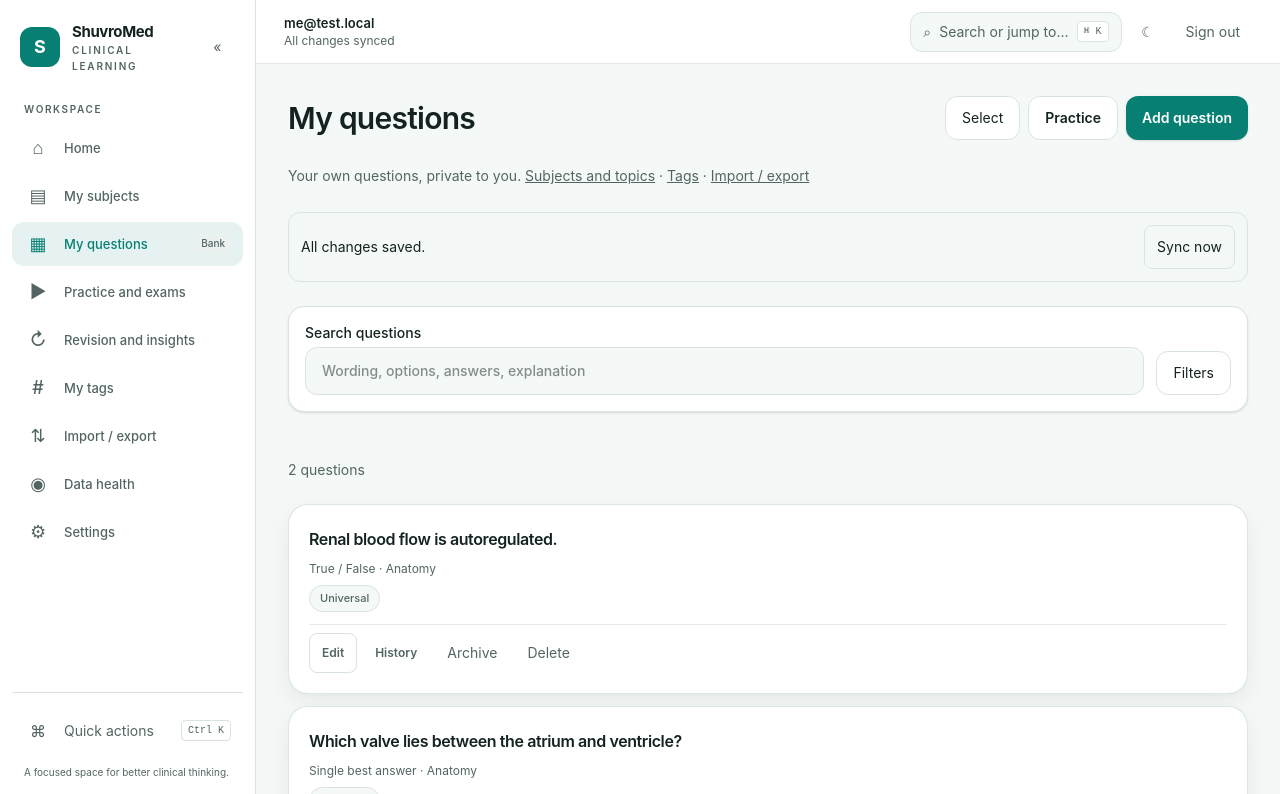
it: question bank › searches wording, options and explanation, shows the count, and clears
Expected: the text "2 questions" is shown, [288,461,365,478]
Type "myogenic" into the search field labelled "Search questions".
click(725, 371); type("myogenic")  # box [305,347,1144,395]
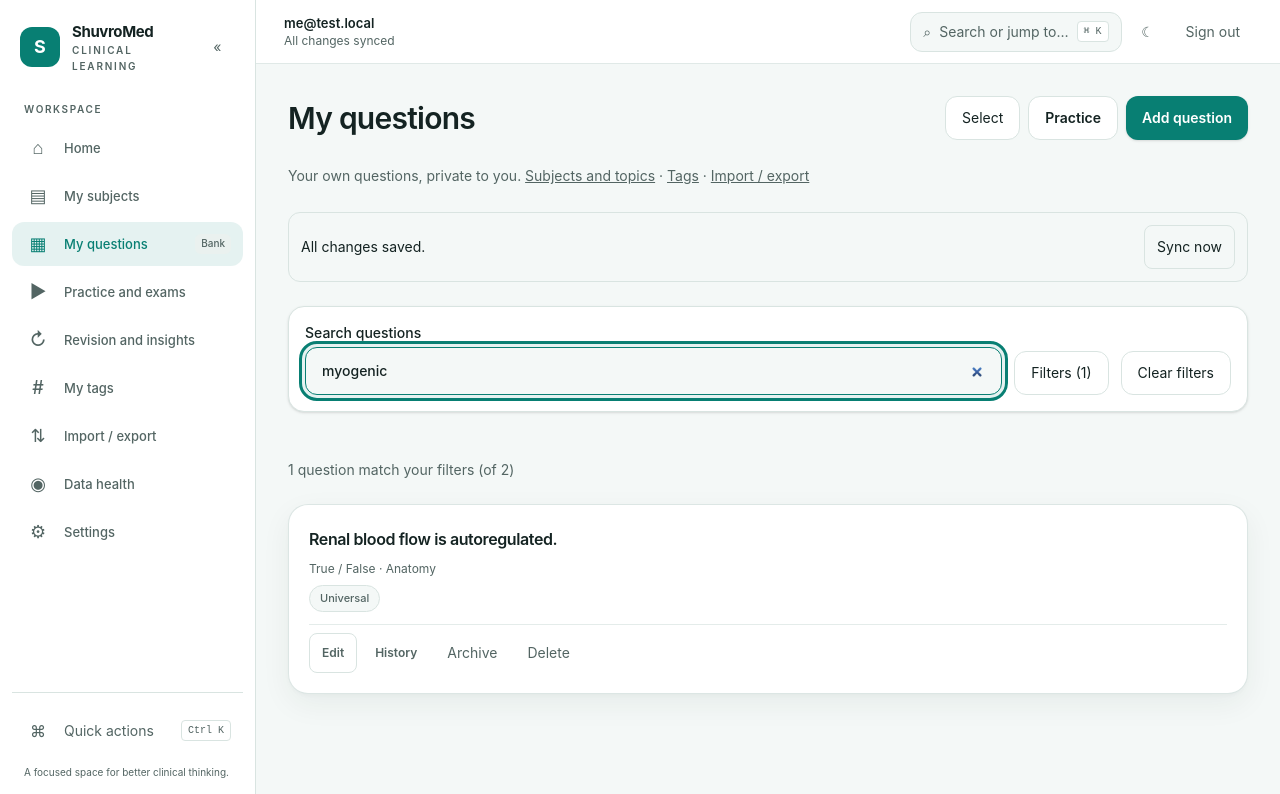
Expected: the text "Renal blood flow is autoregulated." is shown, [309,529,557,549]
Expected: the text "1 question match your filters (of 2)" is shown, [288,461,514,478]
Expected: the text "Which valve" is gone
Clear the search field labelled "Search questions" at (654, 371), box [305,347,1002,395]
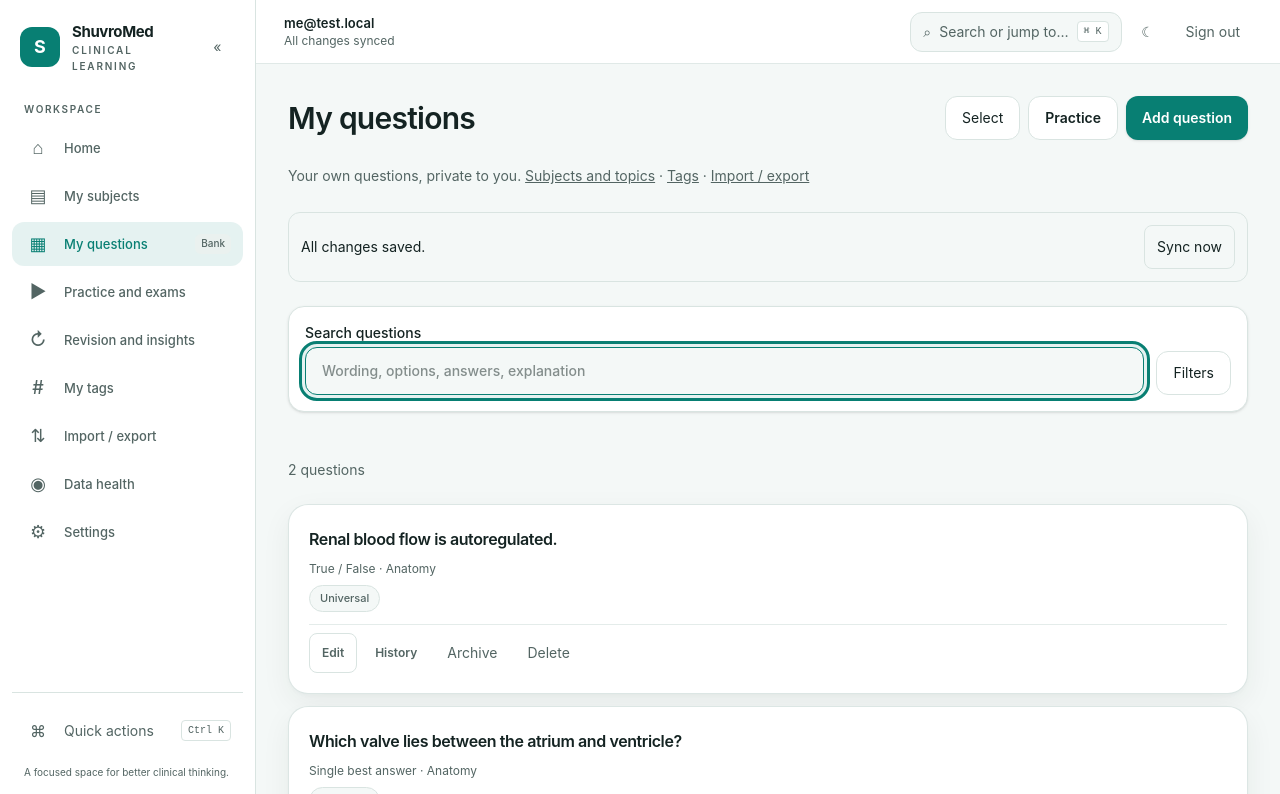
Type "zzzz" into the search field labelled "Search questions".
click(725, 371); type("zzzz")  # box [305,347,1144,395]
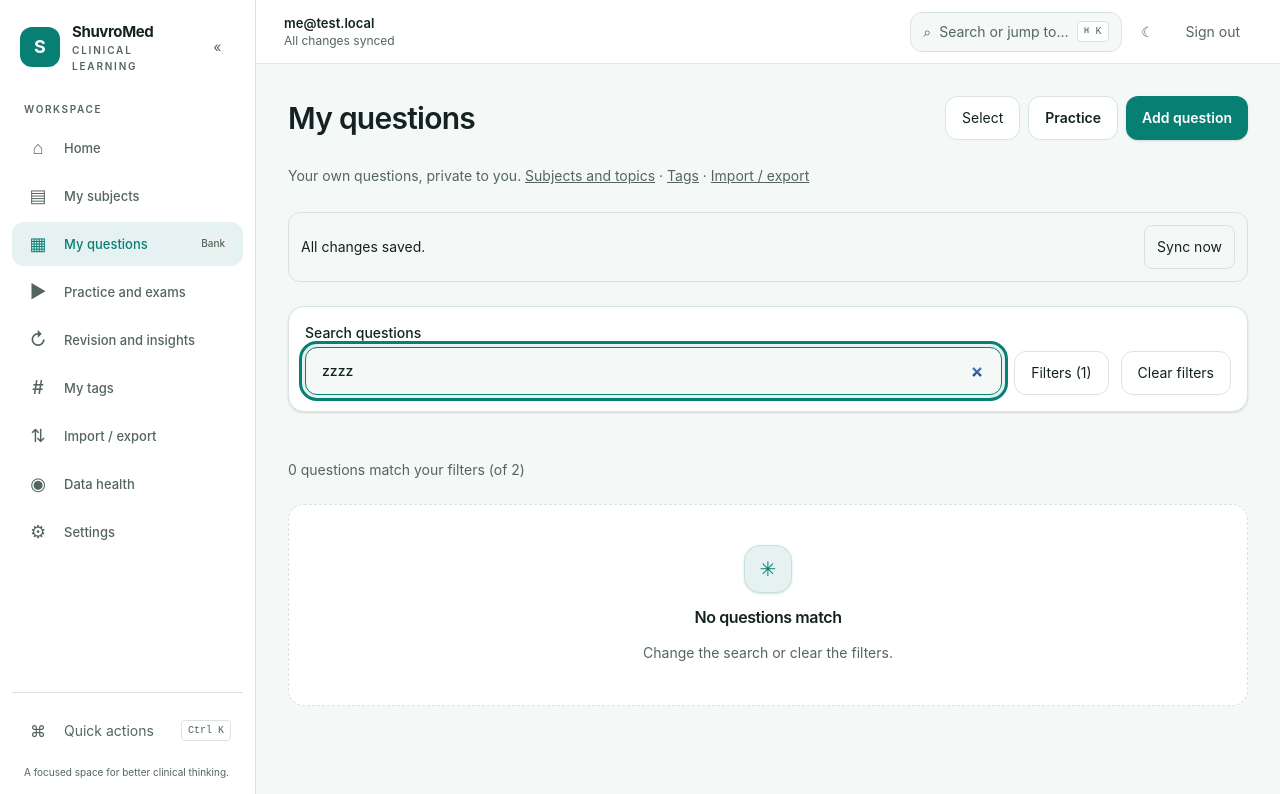
Expected: the heading "No questions match" is shown, [694,605,842,629]
Click the button "Clear filters".
click(1176, 373)  # box [1121,351,1231,395]
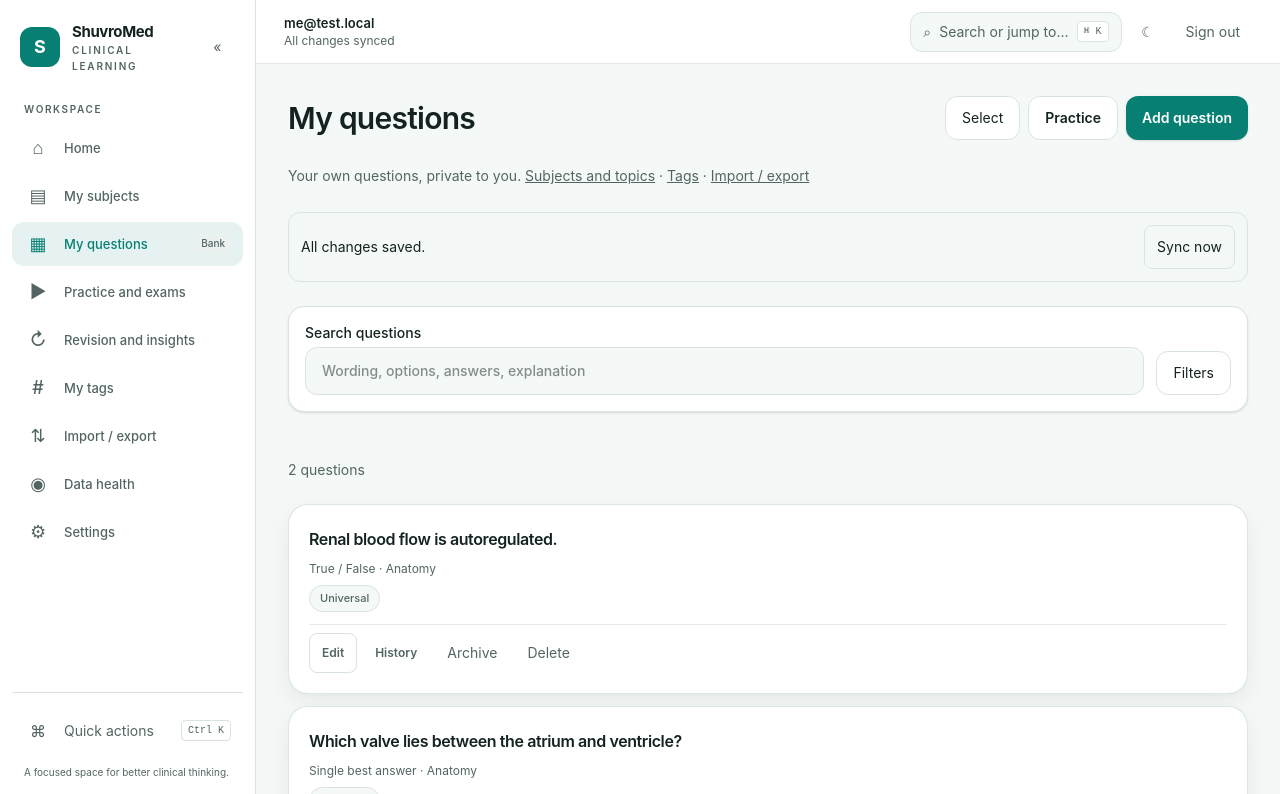
Expected: the text "2 questions" is shown, [288,461,365,478]
